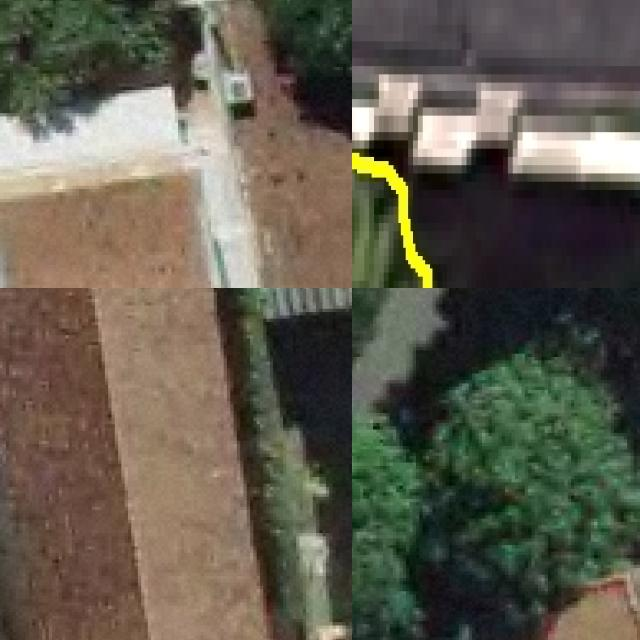trees: (353, 358, 640, 640), (1, 1, 174, 126), (353, 158, 429, 289)
